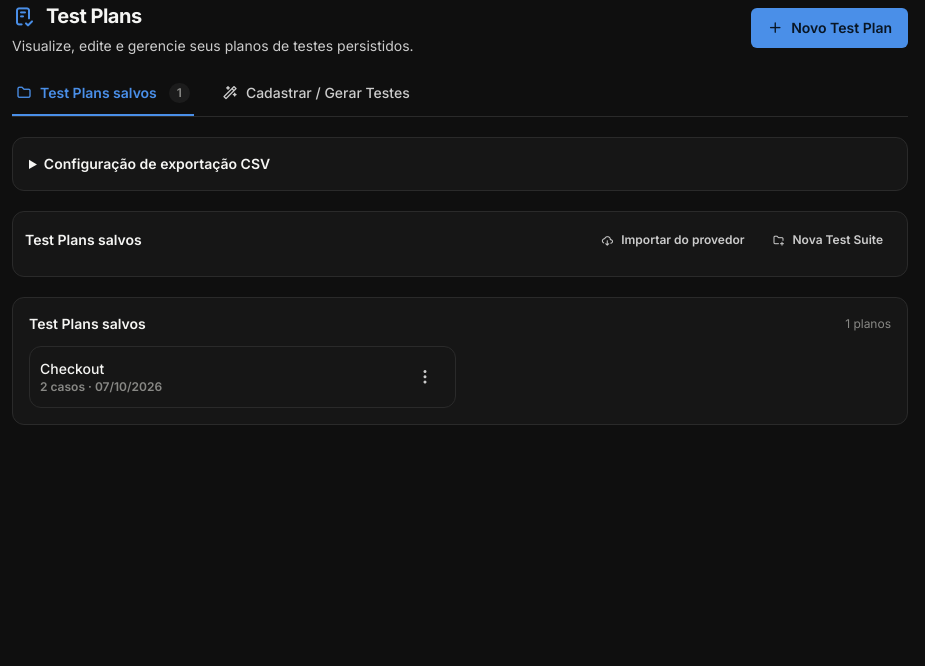
it: Test plan permissions and per-case history › hides deletion without the delete permission
Click the button with aria-label "Abrir Test Plan Checkout" at (72, 368), box x1=40 y1=359 x2=405 y2=395
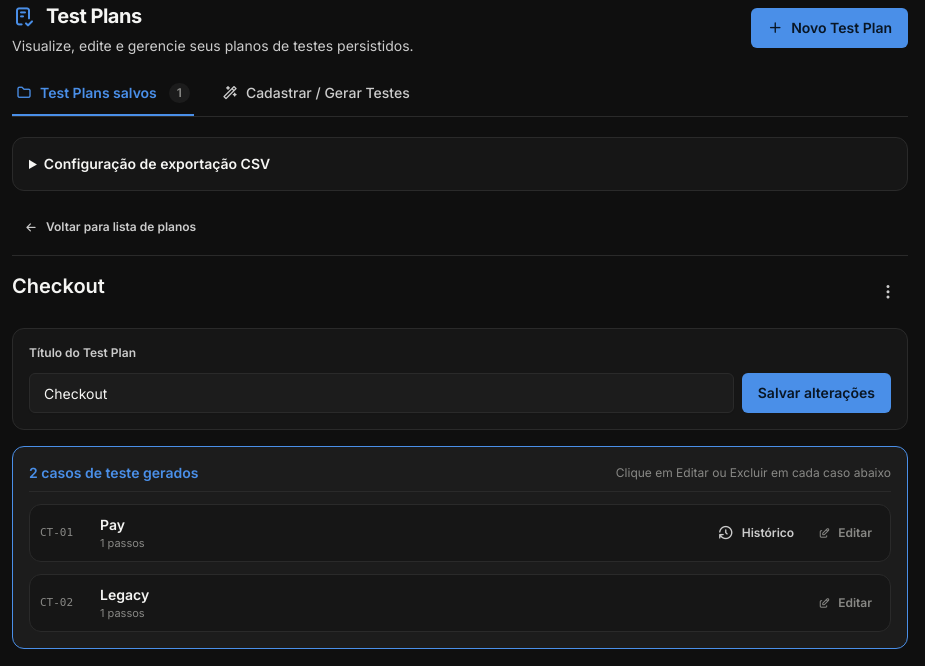
Result: the button with test id "btn-edit-test-CT-01" is shown at x1=810 y1=519 x2=880 y2=547
Result: the button with test id "btn-save-plan-changes" is shown at x1=742 y1=373 x2=891 y2=413
